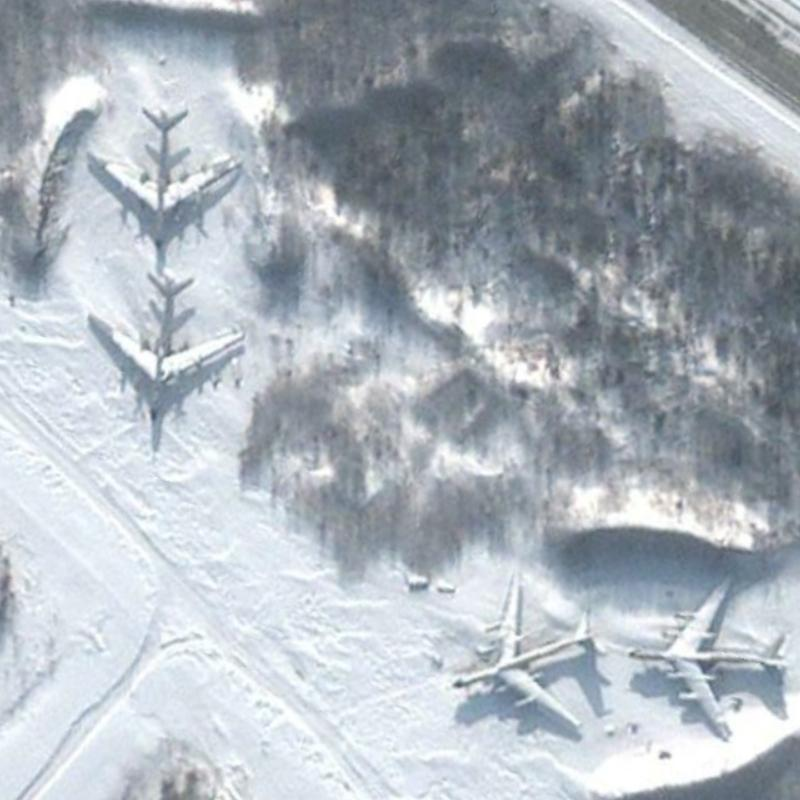A17: (624, 570, 788, 742), (446, 565, 610, 733), (84, 267, 248, 428), (81, 101, 243, 255)
